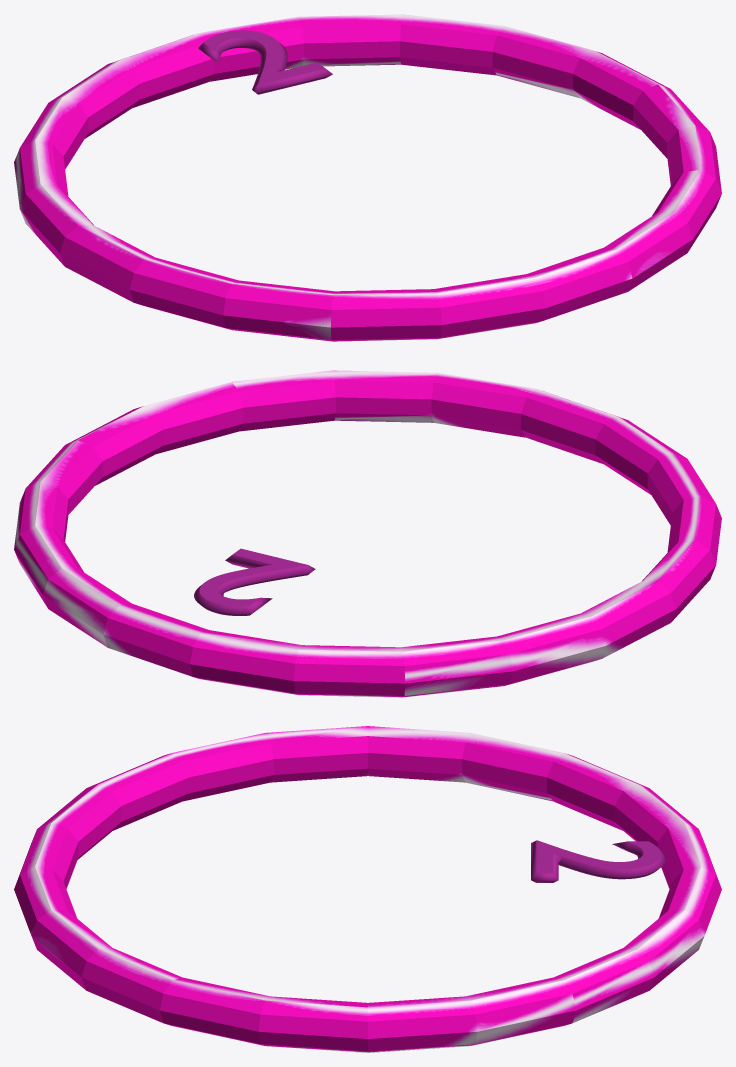
3 views of the same model, one above another, from view 1: azimuth 30°, elevation 25°; view 2: azimuth 150°, elevation 25°; view 3: azimuth 270°, elevation 25° (orthographic).
Parts seen in each view (by area): view 1: Torus, Text; view 2: Torus, Text; view 3: Torus, Text.
Boxes of the visible parts, bbox=[...] form: Torus: bbox=[14, 14, 721, 341]; Text: bbox=[198, 30, 332, 94]; Torus: bbox=[14, 370, 721, 697]; Text: bbox=[194, 548, 315, 615]; Torus: bbox=[14, 726, 721, 1052]; Text: bbox=[531, 840, 665, 882].
Bounding box in the file's own units: 222 × 20.64 × 222.
Materials: 2 (1 with a texture image).
